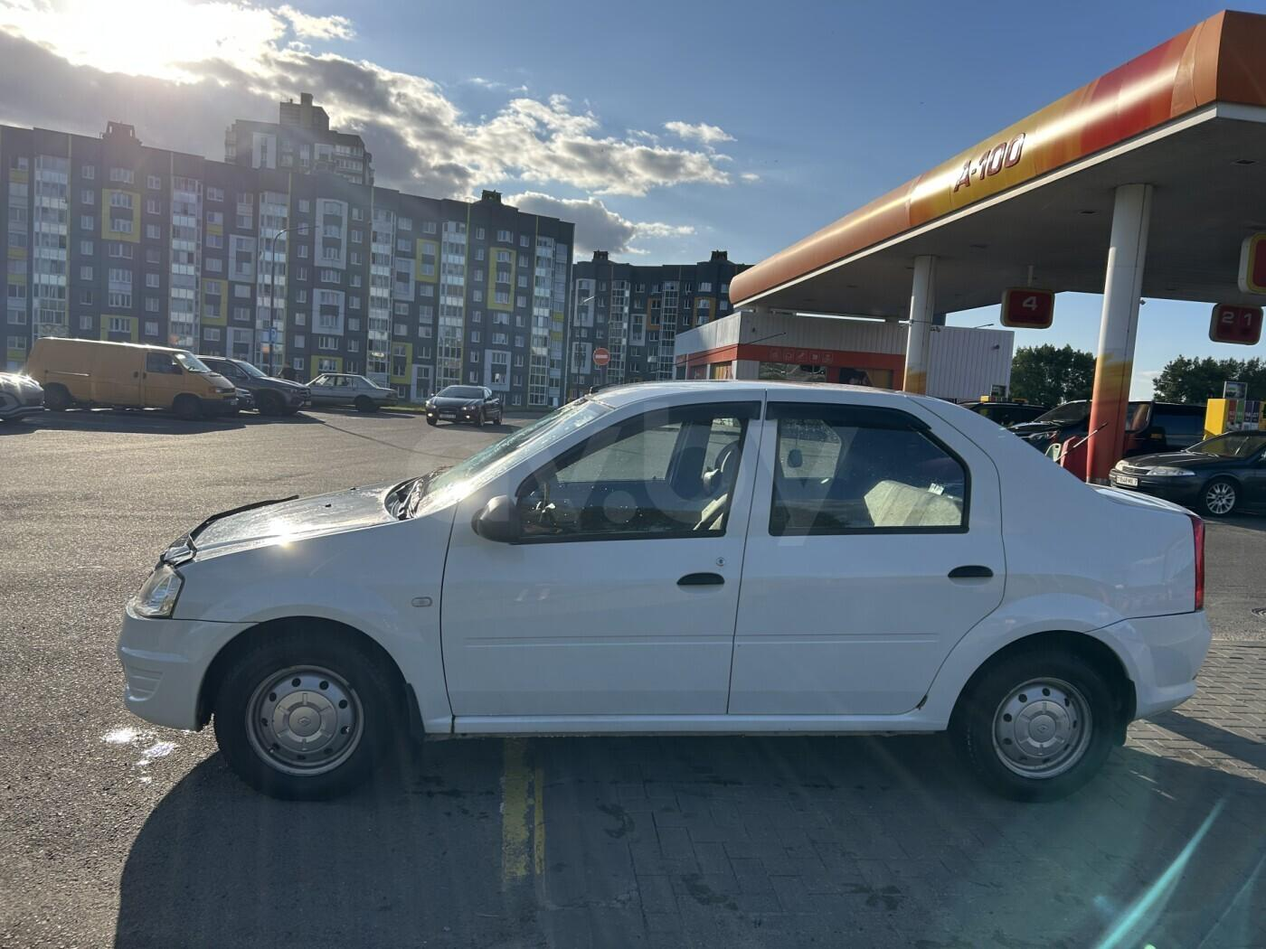Logan_2008-2015: (112, 374, 1217, 806)
